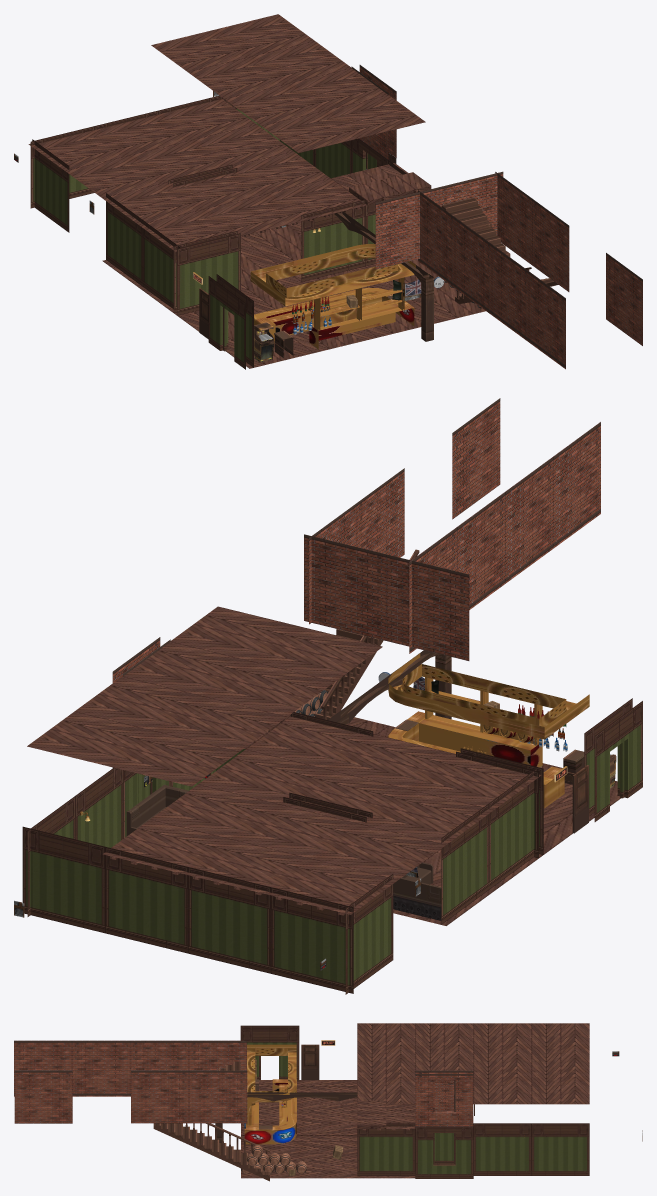
File: Bar.glb
3 renders of one model, top to bottom at view 1: azimuth 30°, elevation 25°; view 2: azimuth 150°, elevation 25°; view 3: azimuth 270°, elevation 25°, orthographic. The views are drawn at different scales.
Parts seen in each view (by area): view 1: Bar; view 2: Bar; view 3: Bar.
Part boxes in pixels (left/top/right/bottom): Bar: left=14, top=14, right=642, bottom=369; Bar: left=14, top=398, right=642, bottom=994; Bar: left=14, top=1023, right=642, bottom=1181.
Size of the model in its own units: 131 by 66.13 by 346.
Materials: 19 (18 with a texture image).
